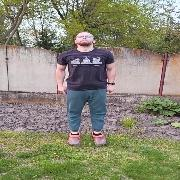high_jumps: (51, 20, 119, 153)
